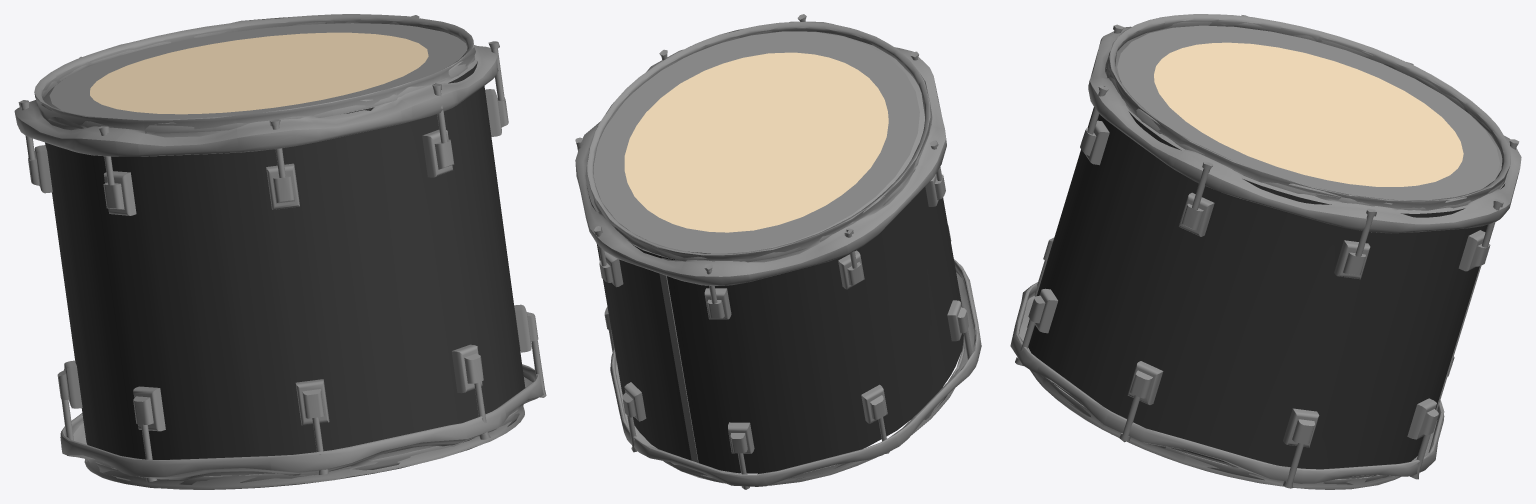
The model's file is SM_DrumKit_V1_tom_2.FBX.
3 views of the same model, side by side, from view 1: azimuth 30°, elevation 25°; view 2: azimuth 150°, elevation 25°; view 3: azimuth 270°, elevation 25° (orthographic). The views are drawn at different scales.
Parts seen in each view (by area): view 1: SM_DrumKit_V1_tom_2; view 2: SM_DrumKit_V1_tom_2; view 3: SM_DrumKit_V1_tom_2.
Part boxes in pixels (x1,y1,x2,y2): SM_DrumKit_V1_tom_2: [14, 14, 546, 489]; SM_DrumKit_V1_tom_2: [575, 14, 981, 489]; SM_DrumKit_V1_tom_2: [1010, 14, 1521, 489].
Bounding box in the file's own units: 34.64 × 43.73 × 36.71.
